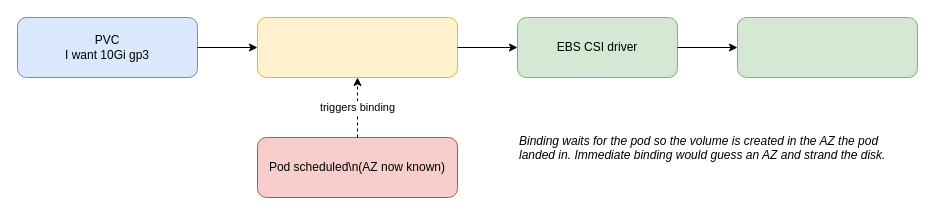
This 935x215 diagram has some shape labels left out. Each missing label, with the centre of its shape:
EBS volume in the pod's AZ: [827,47]
StorageClass gp3 WaitForFirstConsumer: [357,47]
